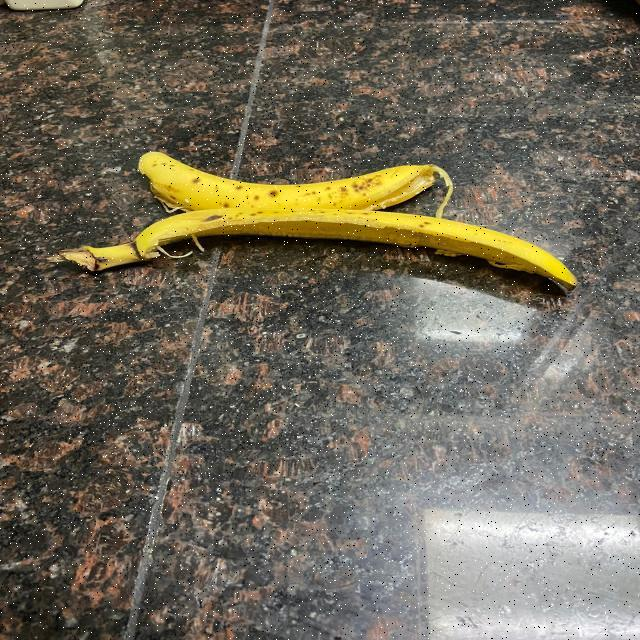banana-peel: (50, 206, 577, 295), (136, 149, 453, 214)
